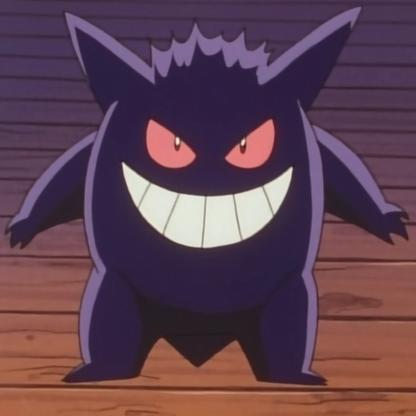Gengar: (1, 6, 416, 399)
